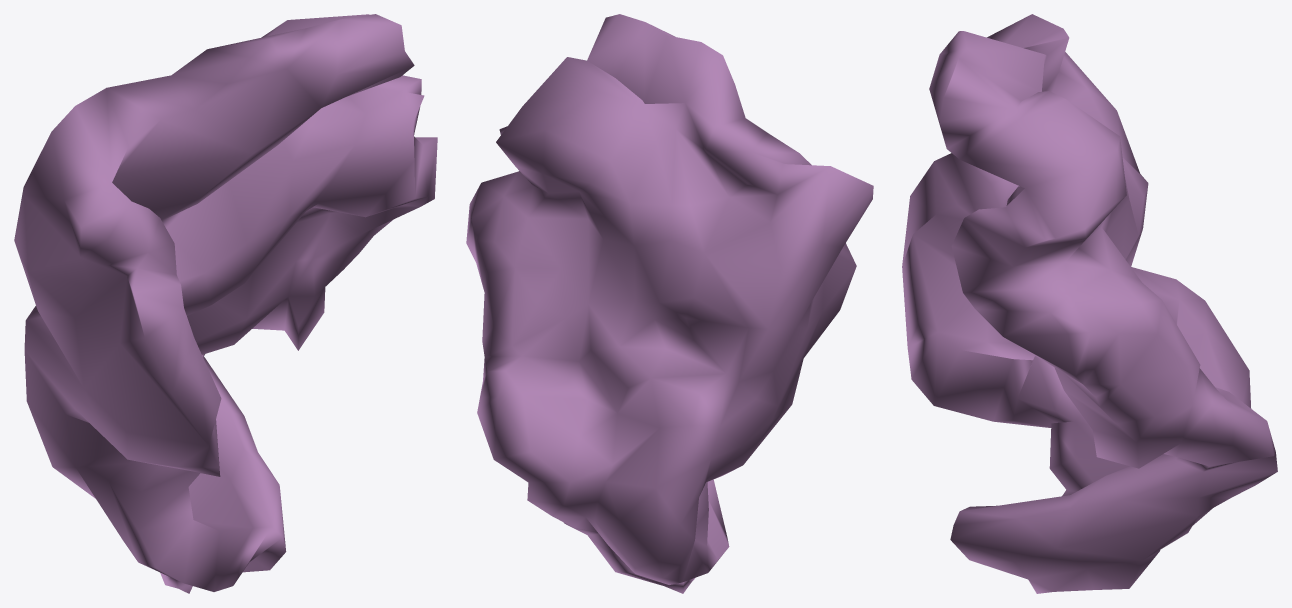
3 views of the same model, side by side, from view 1: azimuth 30°, elevation 25°; view 2: azimuth 150°, elevation 25°; view 3: azimuth 270°, elevation 25° (orthographic). The views are drawn at different scales.
Visible parts, largest first — view 1: 右侧岛叶（中央下回与前后沟）; view 2: 右侧岛叶（中央下回与前后沟）; view 3: 右侧岛叶（中央下回与前后沟）.
Boxes of the visible parts, box(x1,y1,x2,y2) form: 右侧岛叶（中央下回与前后沟）: box(14, 14, 437, 593); 右侧岛叶（中央下回与前后沟）: box(466, 14, 873, 593); 右侧岛叶（中央下回与前后沟）: box(902, 14, 1277, 593).
Size of the model in its own units: 0.0414 by 0.0555 by 0.0325.
